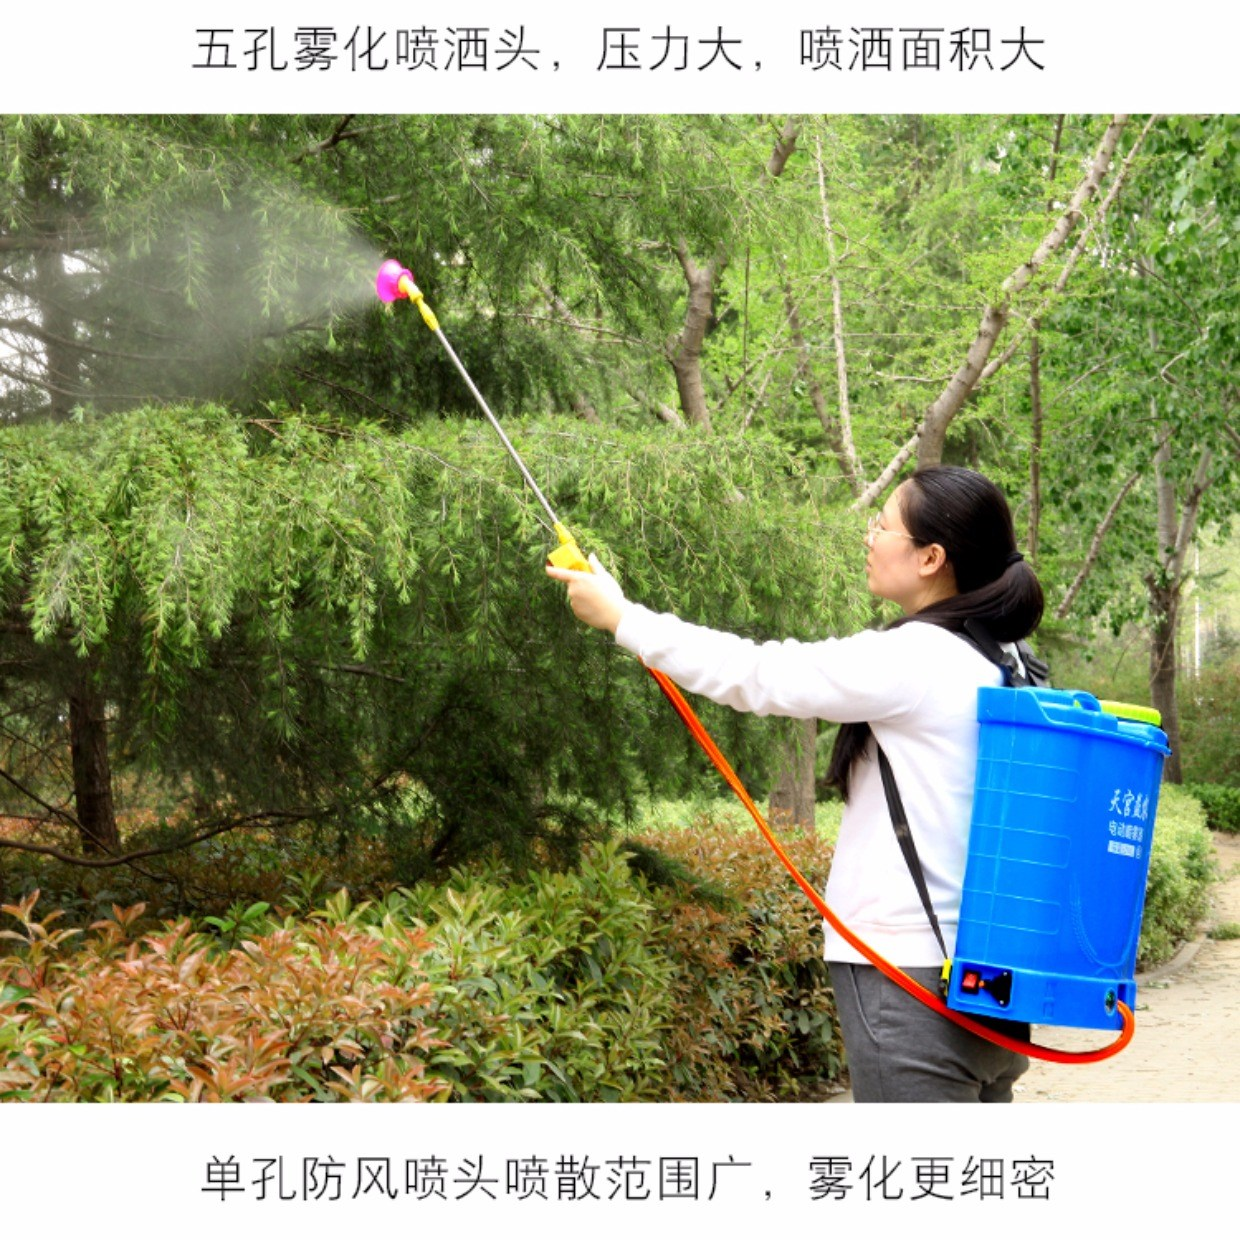berrl: (952, 679, 1165, 1034)
